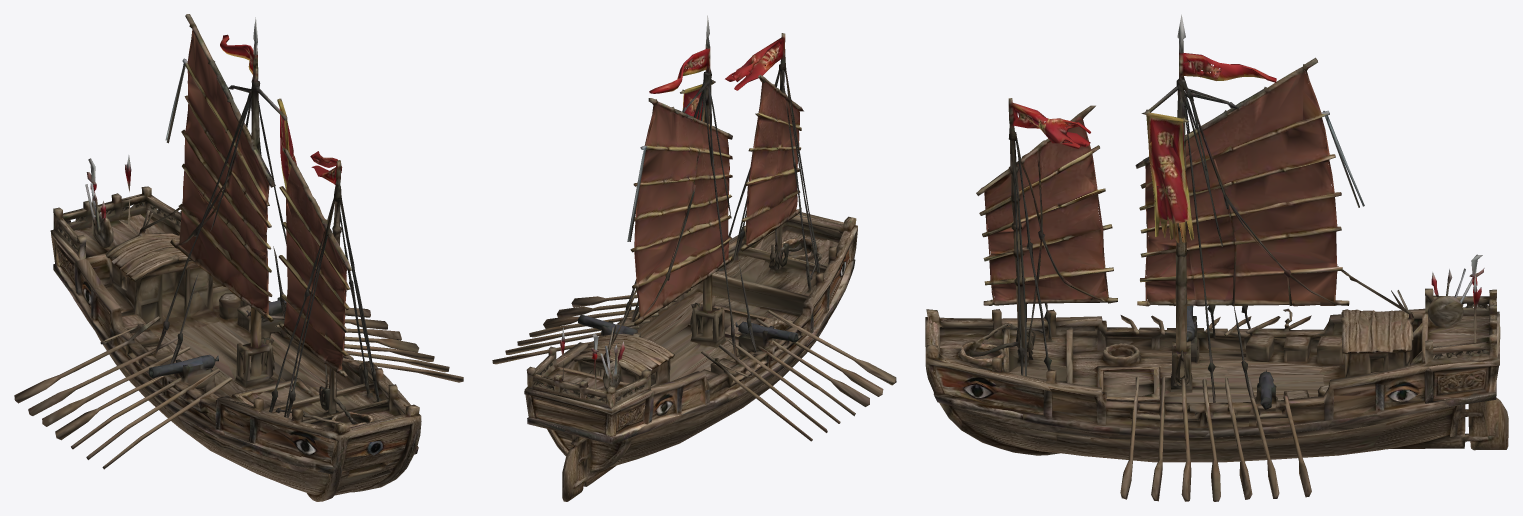
Rendered from mingsmall.glb.
The picture shows the model from 3 angles, left to right: view 1: azimuth 30°, elevation 25°; view 2: azimuth 150°, elevation 25°; view 3: azimuth 270°, elevation 25°; orthographic projection. The views are drawn at different scales.
Parts seen in each view (by area): view 1: tripo_node_fd3fa530-f418-49f2-8ebe-bd2e94087054; view 2: tripo_node_fd3fa530-f418-49f2-8ebe-bd2e94087054; view 3: tripo_node_fd3fa530-f418-49f2-8ebe-bd2e94087054.
Boxes of the visible parts, box(x1,y1,x2,y2) form: tripo_node_fd3fa530-f418-49f2-8ebe-bd2e94087054: box(14, 14, 463, 501); tripo_node_fd3fa530-f418-49f2-8ebe-bd2e94087054: box(492, 15, 896, 501); tripo_node_fd3fa530-f418-49f2-8ebe-bd2e94087054: box(925, 14, 1508, 501).
Size of the model in its own units: 0.7192 by 0.8065 by 0.9794.
Materials: 1 (1 with a texture image).
